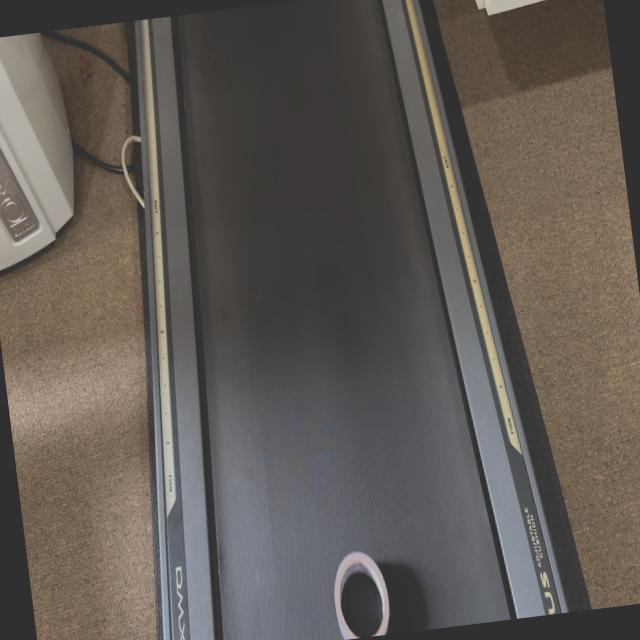Trash: (328, 549, 394, 640)
